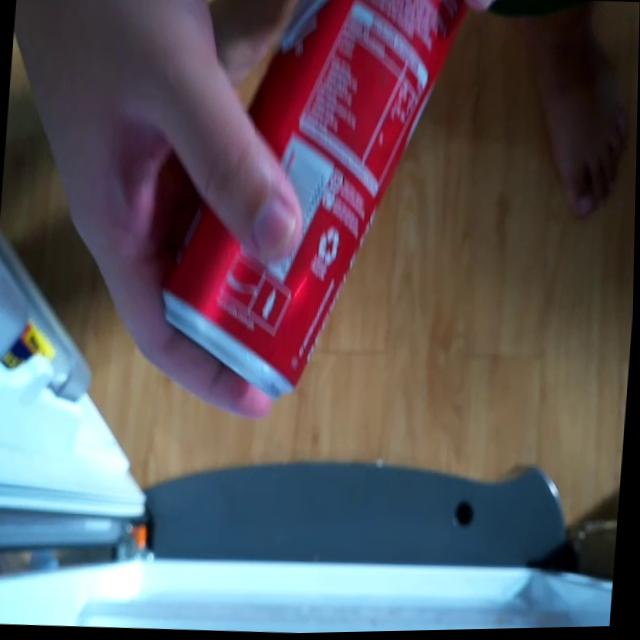coke: (153, 0, 473, 418)
